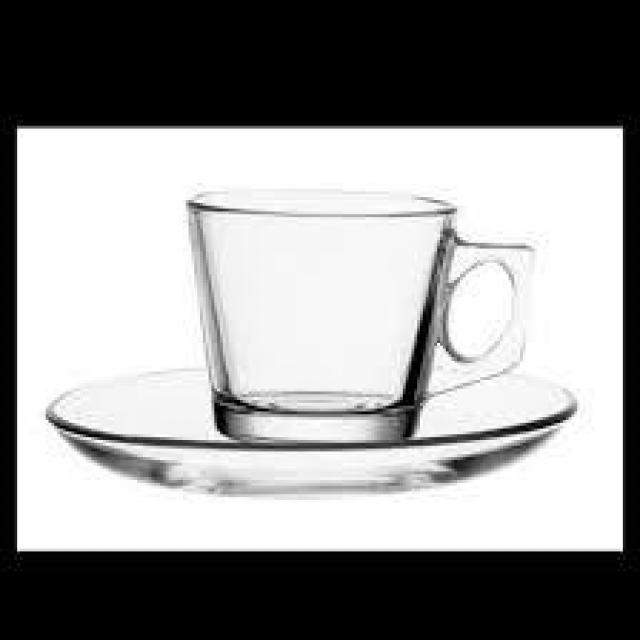non-organic waste: (43, 184, 580, 496)
